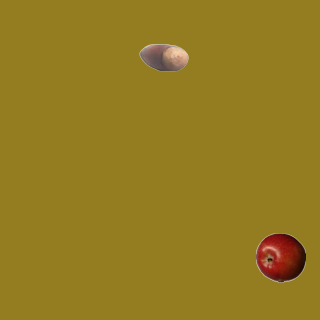Apple Braeburn: (255, 232, 305, 282)
Hazelnut: (138, 32, 188, 82)
